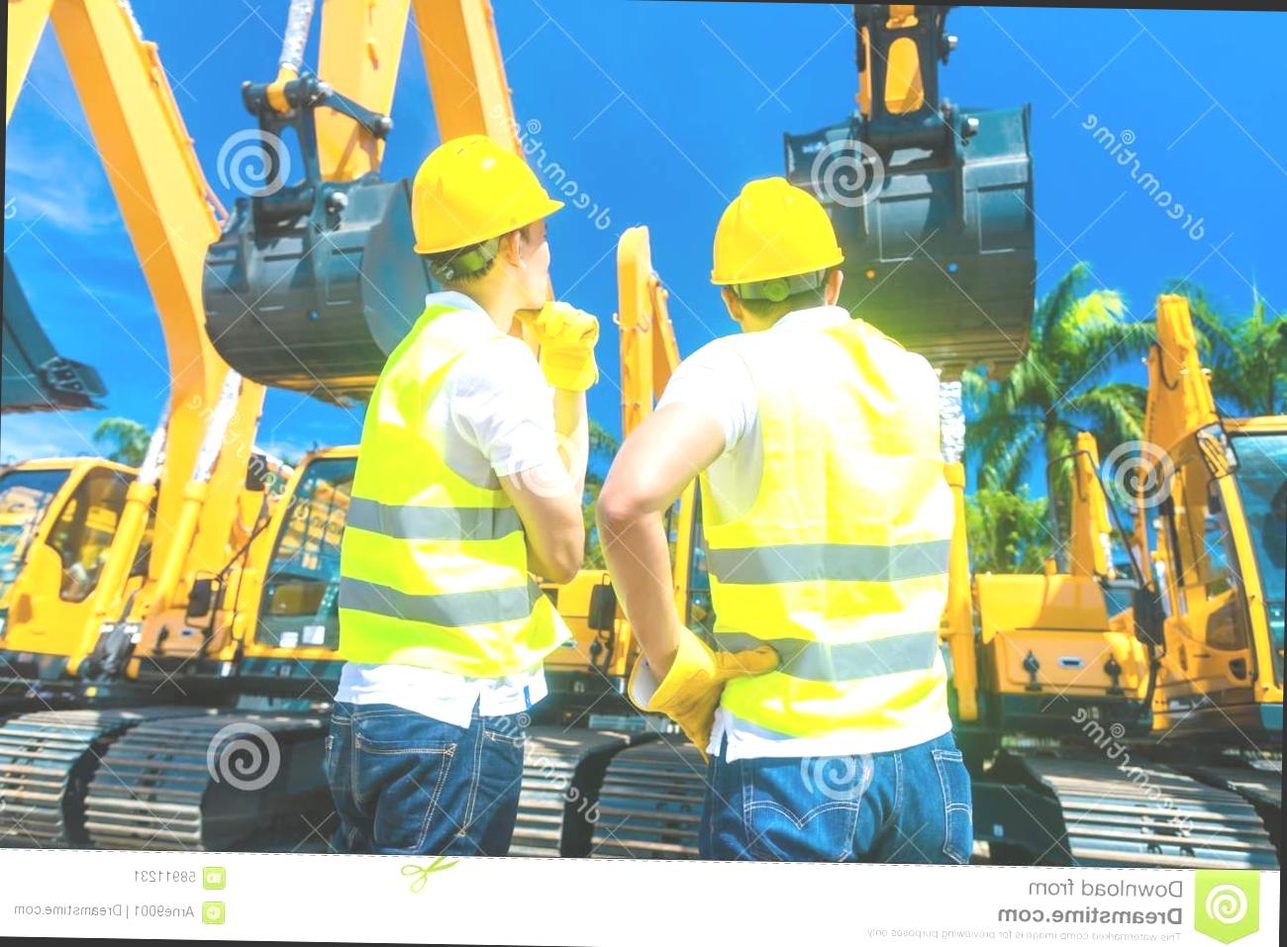helmet: (398, 126, 572, 265), (678, 185, 851, 297)
person: (576, 176, 1007, 876), (294, 135, 605, 853)
